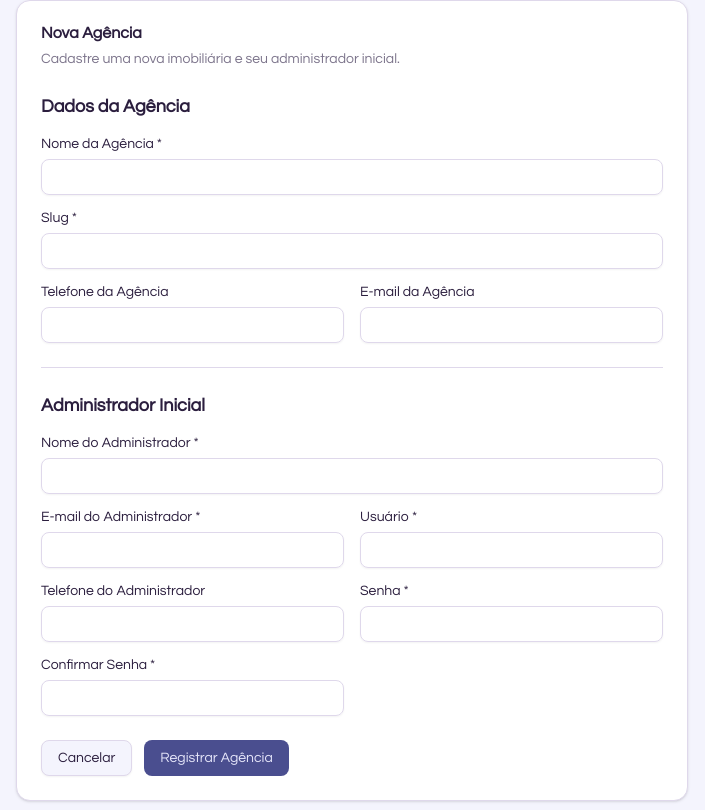
AdminNewAgencyPage › shows validation error when passwords do not match
In the field labelled "Nome da Agência *": x=352, y=177 x1=41 y1=159 x2=663 y2=195, type "Nova Agência"
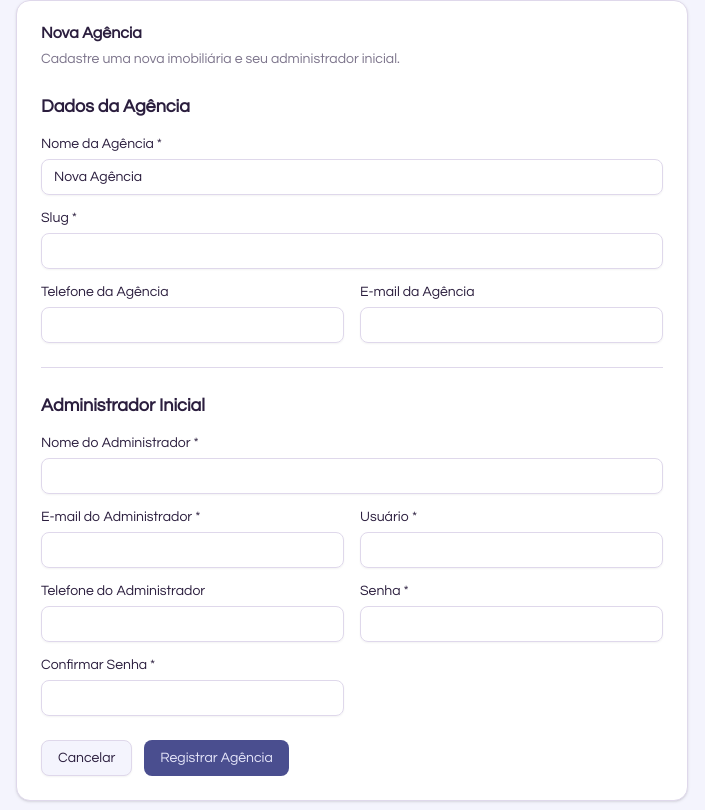
In the field labelled "Slug *": x=352, y=251 x1=41 y1=233 x2=663 y2=269, type "nova-agencia"
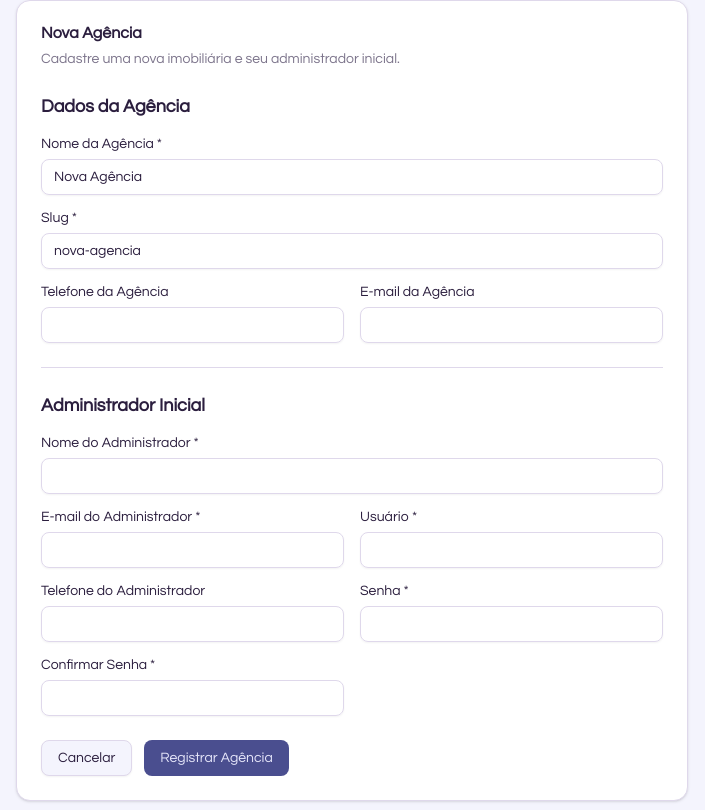
In the password field labelled "Senha *": x=512, y=624 x1=360 y1=606 x2=663 y2=642, type "senhaSegura123"
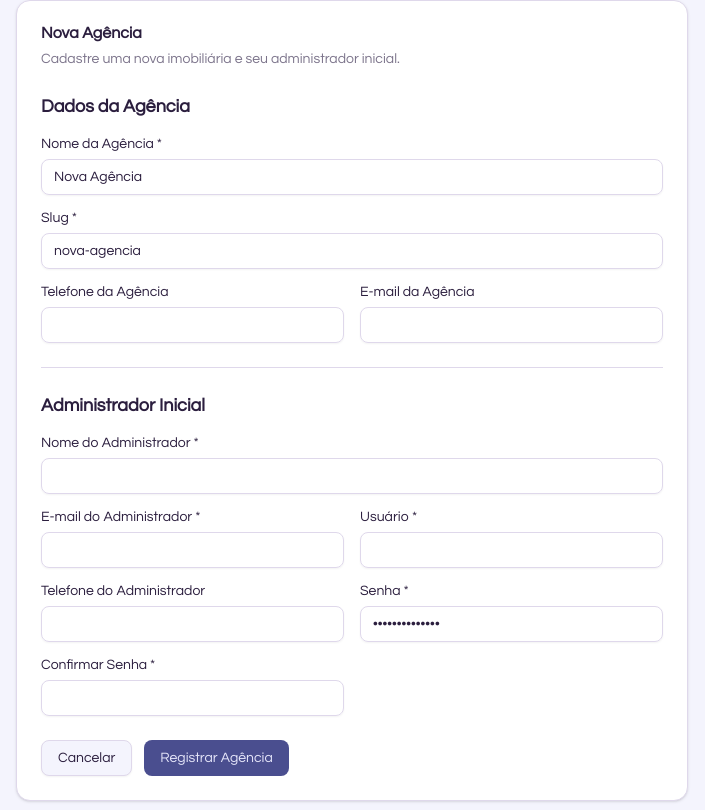
In the password field labelled "Confirmar Senha *": x=192, y=698 x1=41 y1=680 x2=344 y2=716, type "outraSenha"
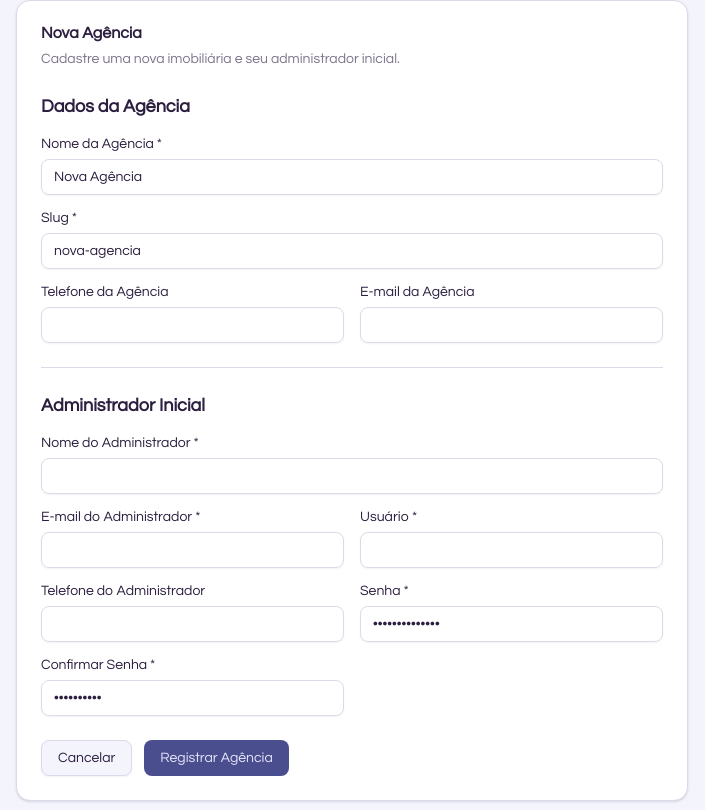
Click the button "Registrar Agência": x=217, y=758 x1=144 y1=740 x2=289 y2=776
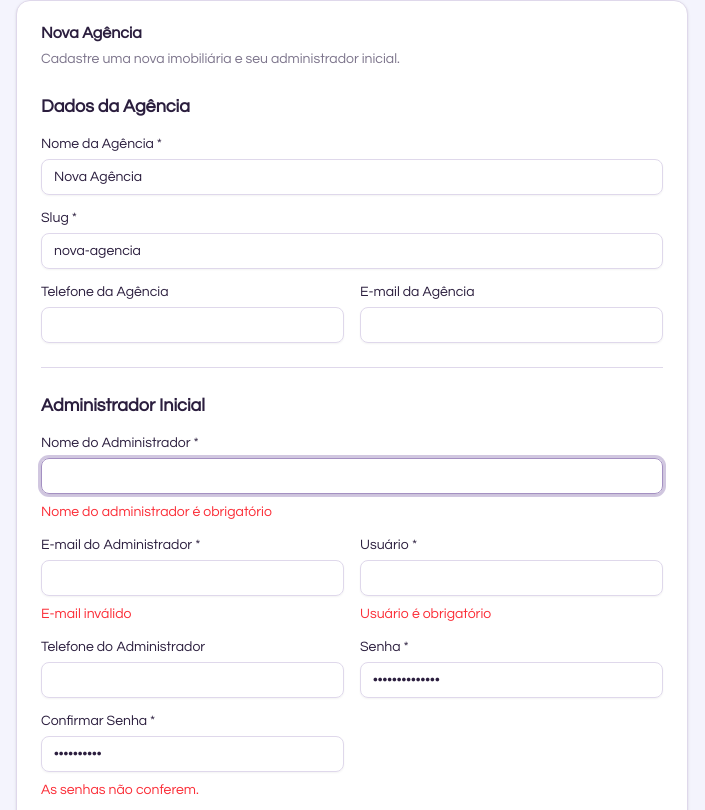
Expected: the text "As senhas não conferem." is shown, x1=41 y1=783 x2=199 y2=797
